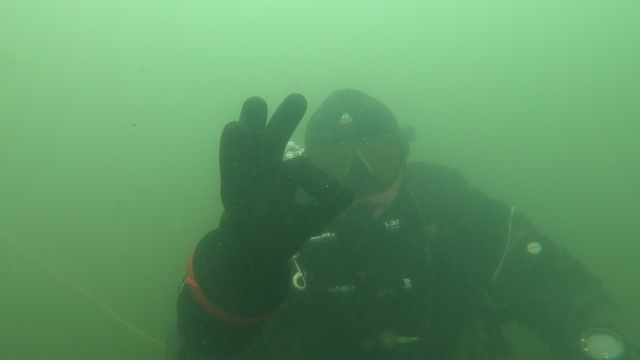Diver: (167, 69, 615, 355)
Hand: (194, 77, 324, 317)
Head: (287, 82, 417, 236)
